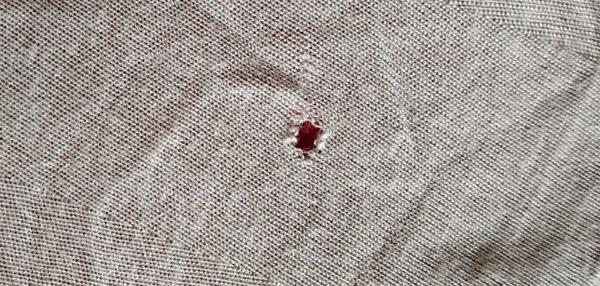hole: (286, 115, 336, 166)
